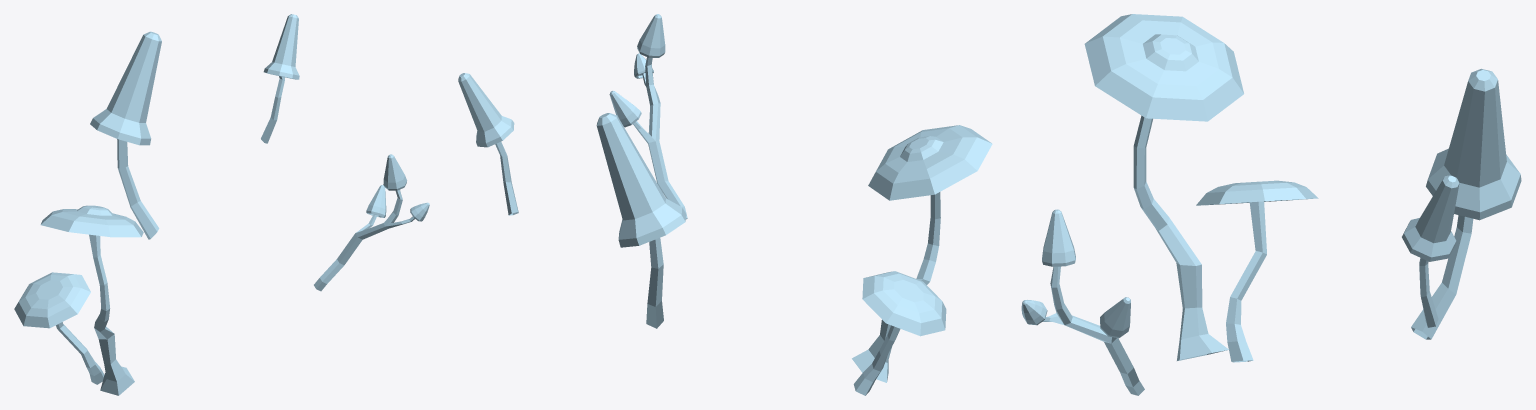
The model's file is Mushrooms_06.fbx.
3 renders of one model, left to right at view 1: azimuth 30°, elevation 25°; view 2: azimuth 150°, elevation 25°; view 3: azimuth 270°, elevation 25°, orthographic. The views are drawn at different scales.
Parts seen in each view (by area): view 1: Mushrooms_06; view 2: Mushrooms_06; view 3: Mushrooms_06.
Boxes of the visible parts, <box> form: Mushrooms_06: <box>14,14,429,395</box>; Mushrooms_06: <box>458,14,992,395</box>; Mushrooms_06: <box>1021,14,1521,395</box>.
Bounding box in the file's own units: 1.53 × 1.26 × 1.1.
